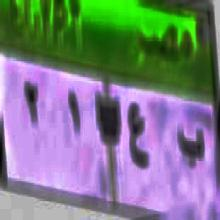1: (64, 89, 86, 141)
2: (21, 77, 44, 133)
ain: (124, 105, 152, 175)
baa: (176, 121, 206, 173)
